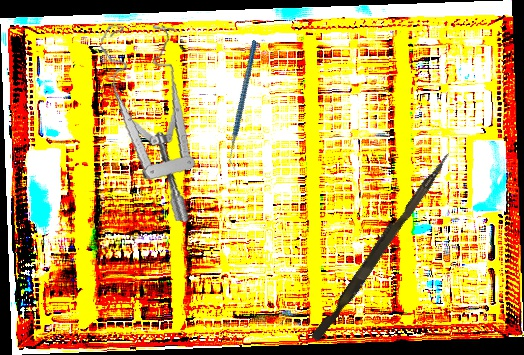Chopper: (191, 39, 298, 171)
Pusher: (310, 146, 453, 346)
Speculum: (77, 17, 216, 223)
